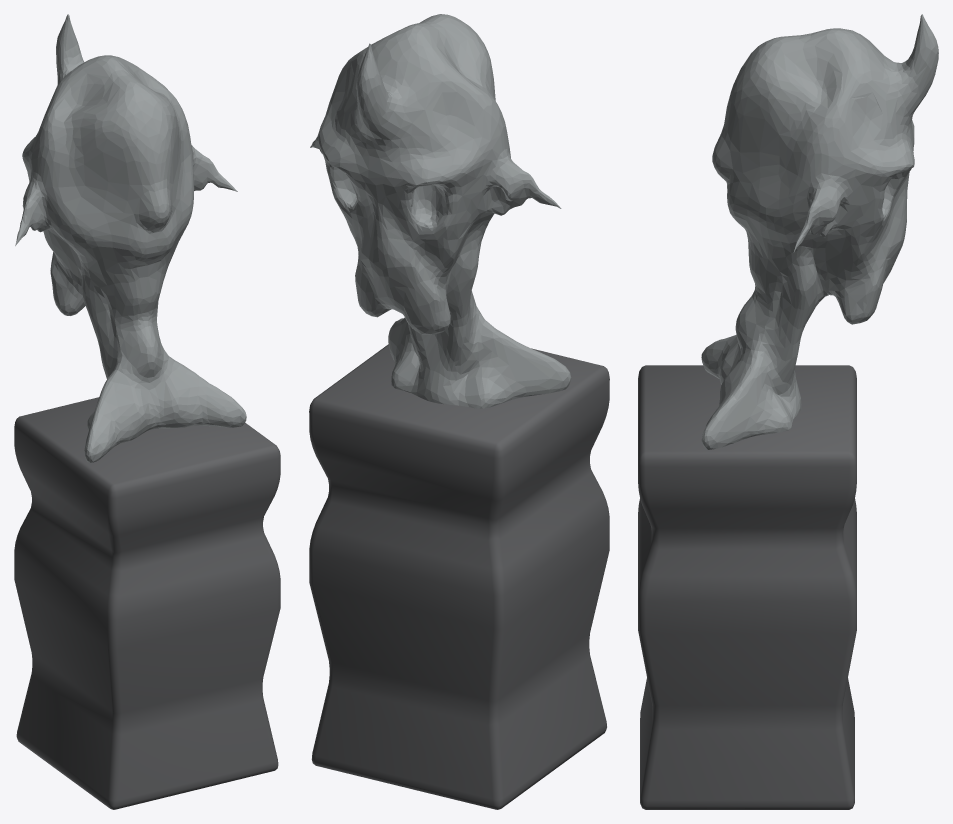
The model's file is Alien Sculpt.fbx.
3 renders of one model, left to right at view 1: azimuth 30°, elevation 25°; view 2: azimuth 150°, elevation 25°; view 3: azimuth 270°, elevation 25°, orthographic. The views are drawn at different scales.
Visible parts, largest first — view 1: Cube; view 2: Cube; view 3: Cube.
Boxes of the visible parts, x1=… form: Cube: x1=14, y1=14, x2=280, y2=809; Cube: x1=309, y1=14, x2=609, y2=809; Cube: x1=638, y1=14, x2=938, y2=809.
Size of the model in its own units: 342 by 1004 by 363.
